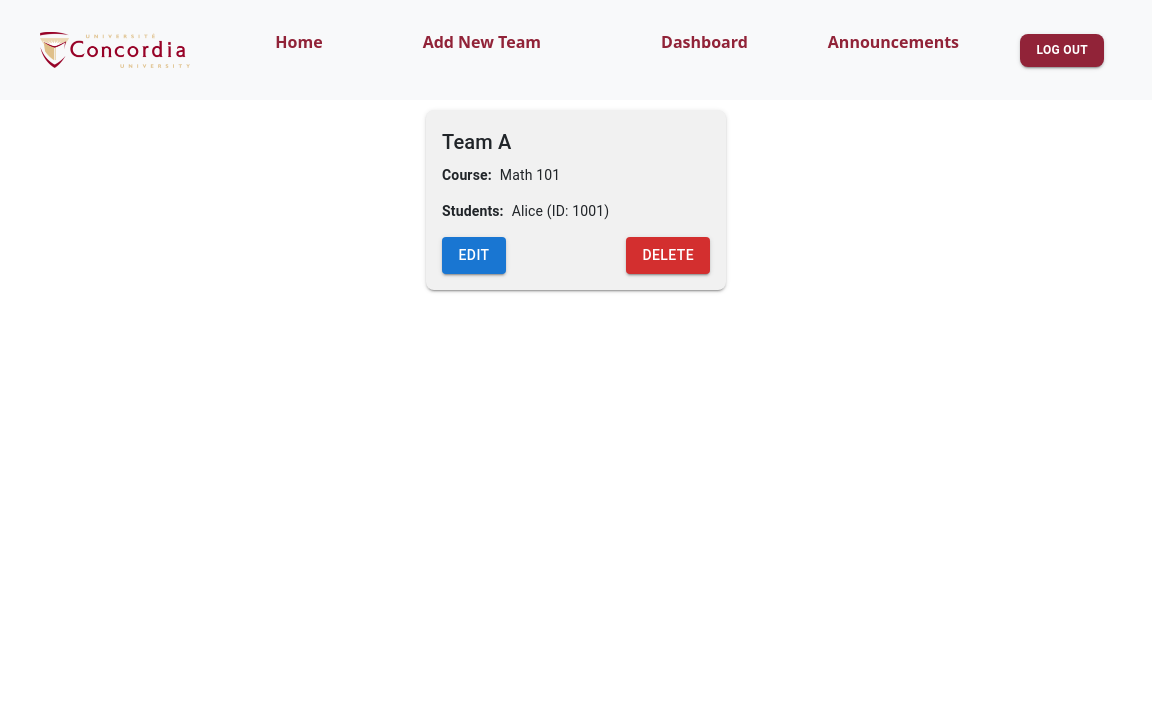
Scenario: Teams Page › displays an error if team editing fails
This screenshot has width=1152, height=720.
Expected: the heading "Team A" is shown, [442, 130, 512, 154]
Click the button "Edit".
click(474, 255)  # box [442, 237, 506, 274]
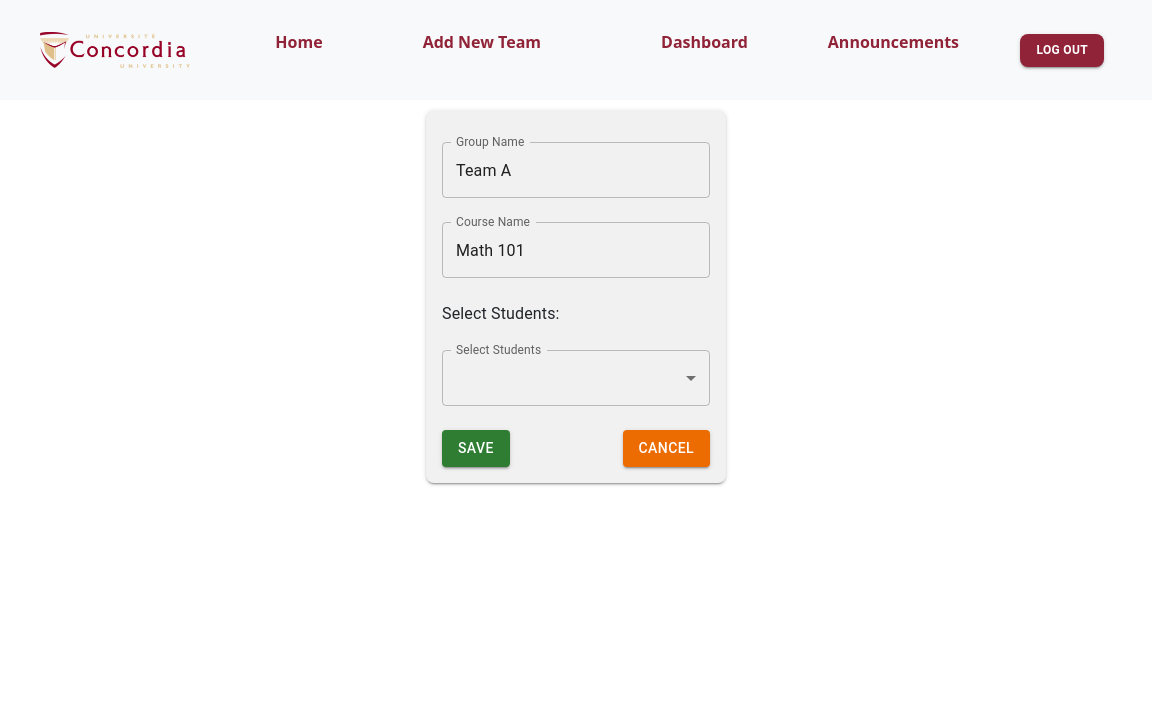
Replace the text in the field labelled "Group Name" with "Updated Team A" at [576, 170], box [442, 142, 710, 198]
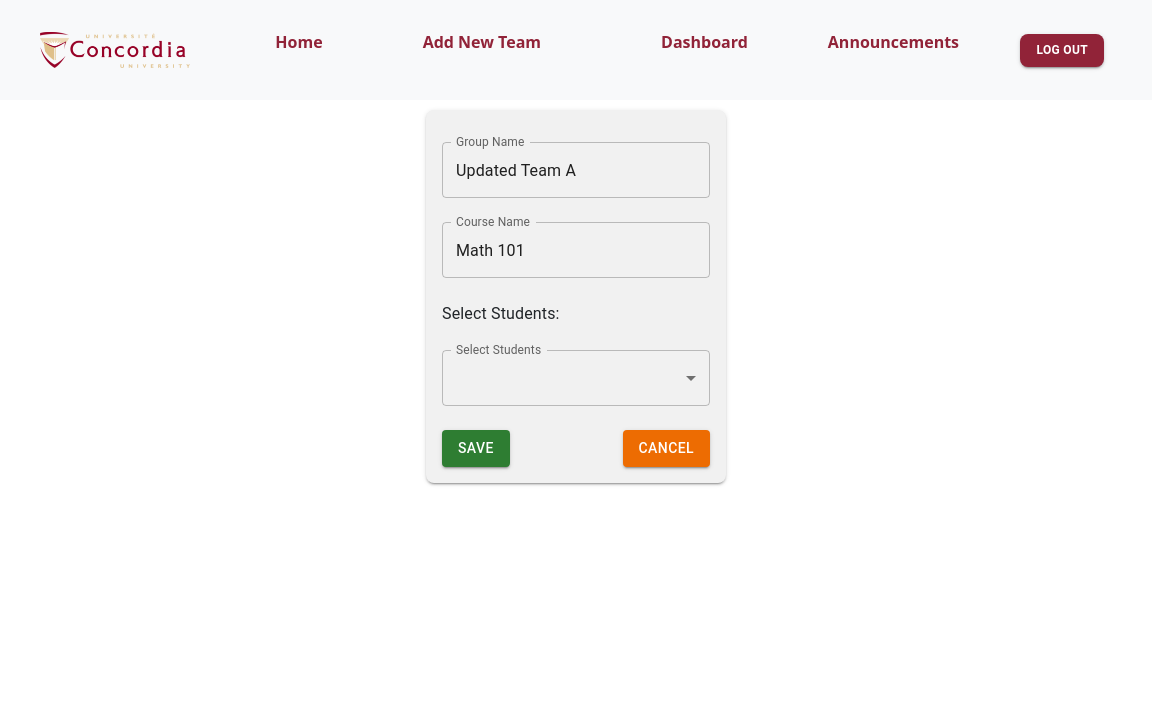
Click the button "Save".
click(476, 448)  # box [442, 430, 510, 466]
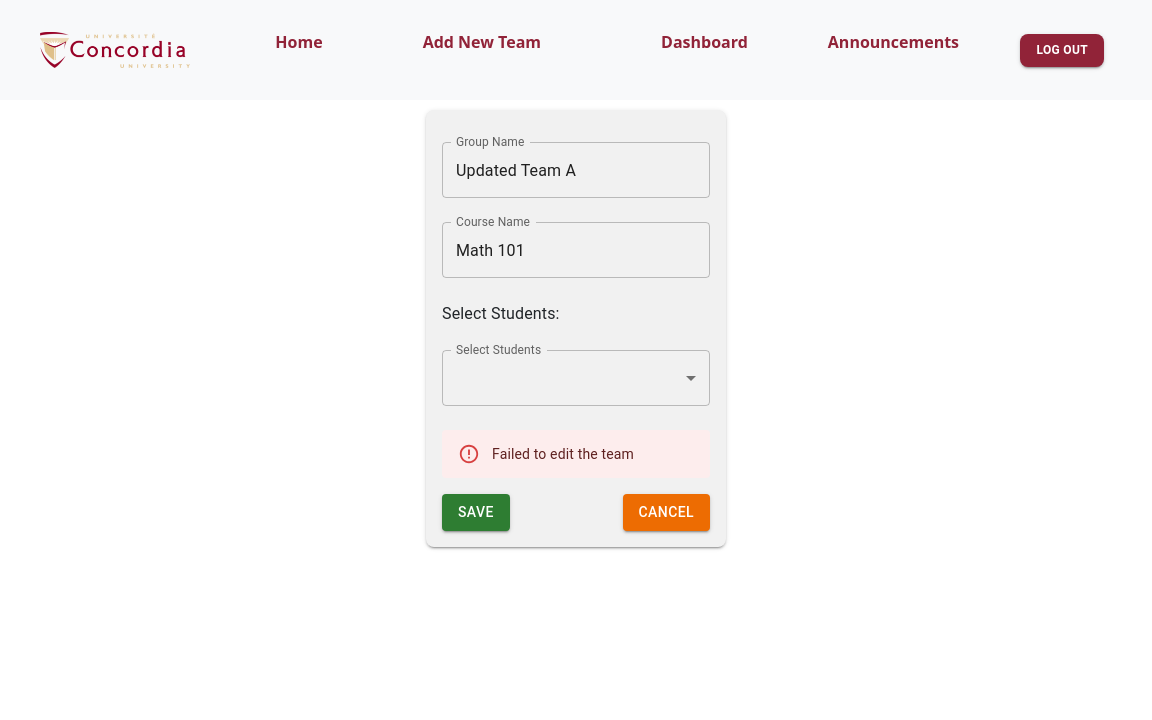
Expected: the text "Failed to edit the team" is shown, [492, 446, 634, 462]
